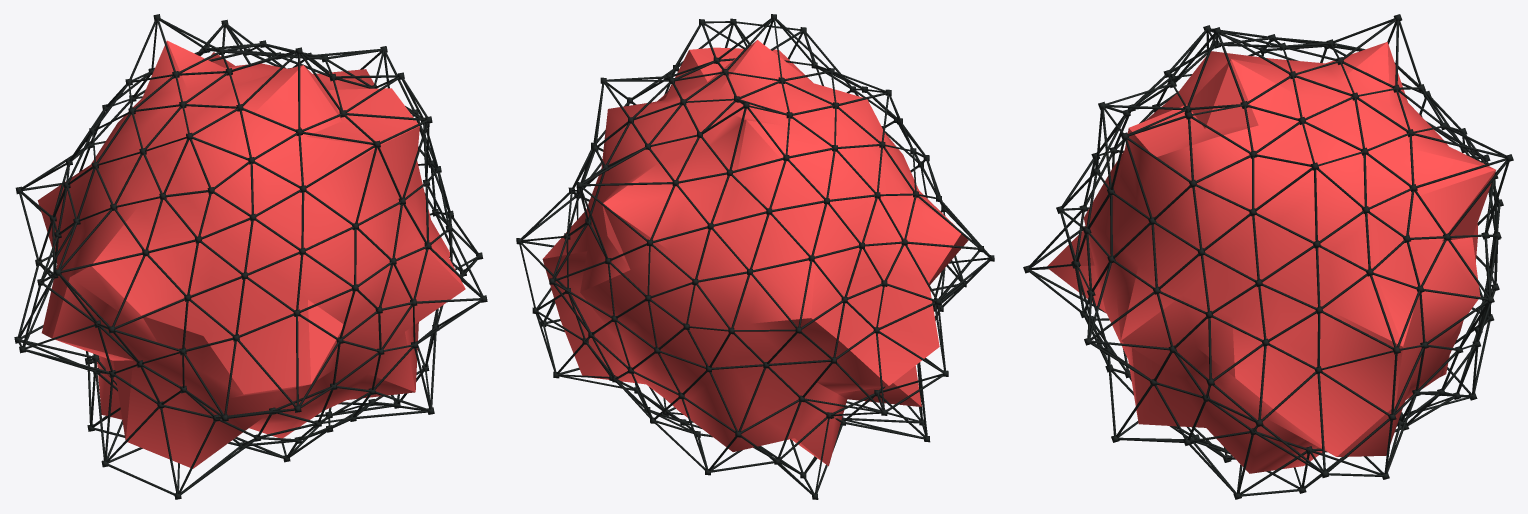
File: Obstacle-Meteor.fbx
3 renders of one model, left to right at view 1: azimuth 30°, elevation 25°; view 2: azimuth 150°, elevation 25°; view 3: azimuth 270°, elevation 25°, orthographic. The views are drawn at different scales.
Visible parts, largest first — view 1: Ball_Obstacle, Cage_Ball; view 2: Ball_Obstacle, Cage_Ball; view 3: Ball_Obstacle, Cage_Ball.
Boxes of the visible parts, bbox=[...] form: Ball_Obstacle: bbox=[37, 40, 465, 468]; Cage_Ball: bbox=[14, 14, 487, 499]; Ball_Obstacle: bbox=[542, 40, 968, 466]; Cage_Ball: bbox=[516, 14, 994, 499]; Ball_Obstacle: bbox=[1047, 42, 1495, 473]; Cage_Ball: bbox=[1023, 14, 1513, 499].
Bounding box in the file's own units: 20.09 × 19.06 × 19.12.
